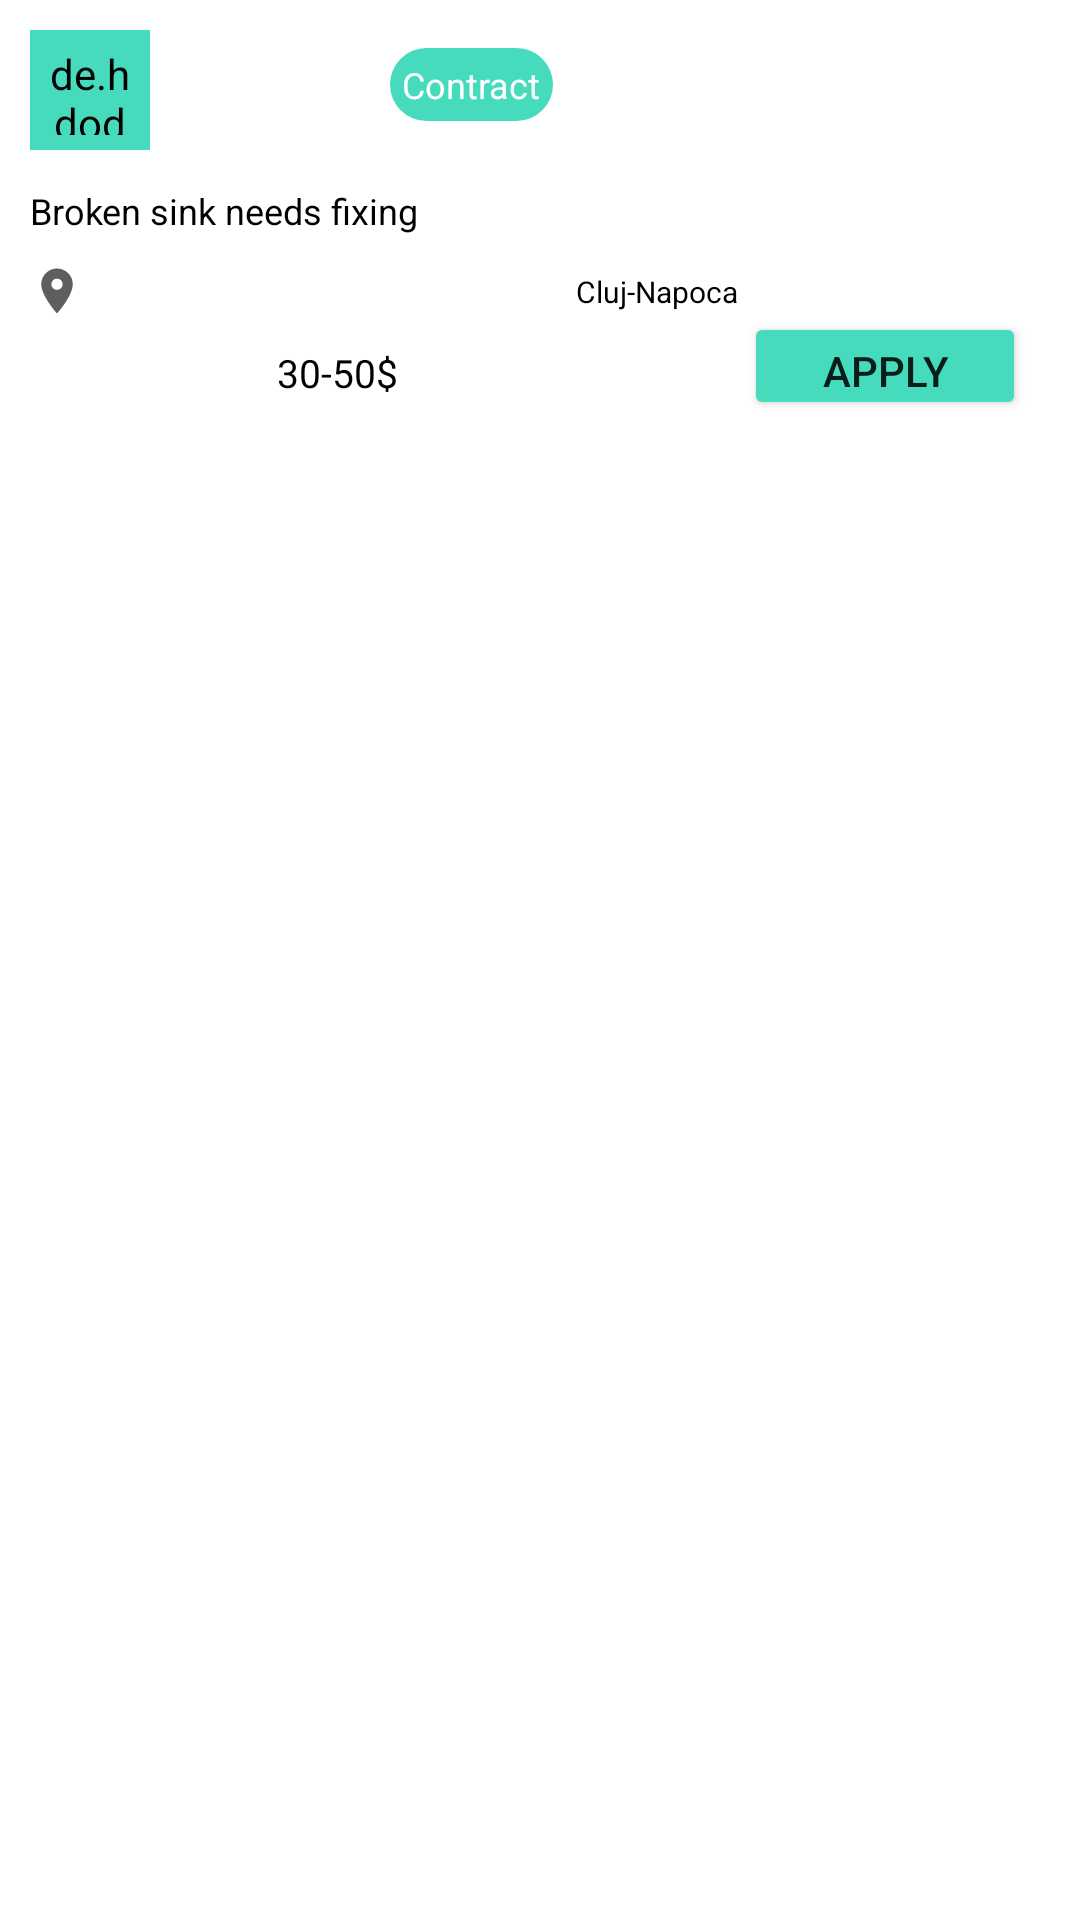

Locate icon controls on the screen. Image size 1080x1920, boxes as (x1, y1, x2, y2).
location: (41, 268, 73, 313)
